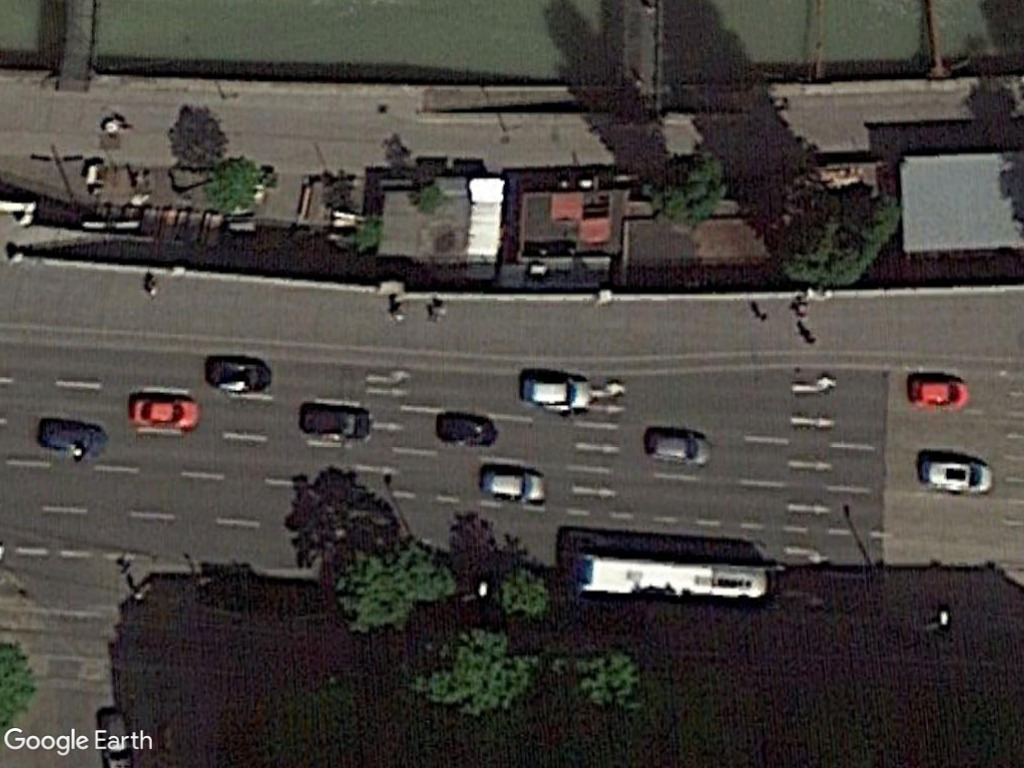bus: (573, 551, 773, 609)
car: (914, 456, 997, 496), (518, 373, 598, 414), (476, 465, 554, 506), (643, 429, 715, 468), (130, 395, 204, 432), (906, 372, 974, 411)
